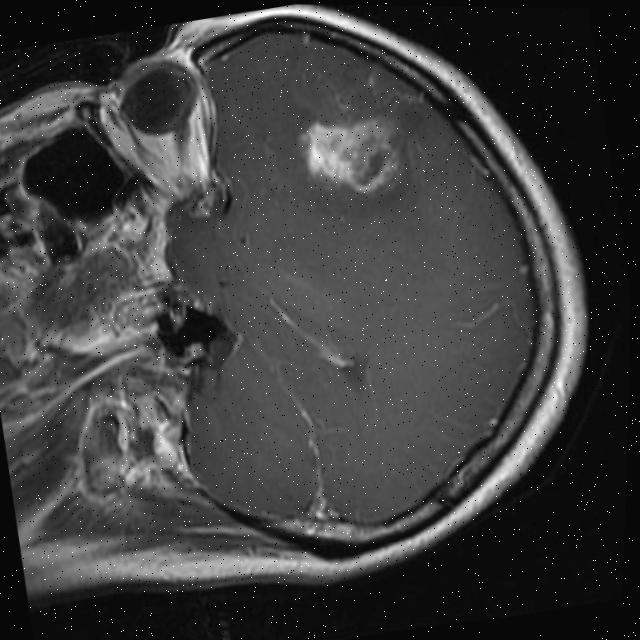Glioma: (295, 104, 417, 207)
